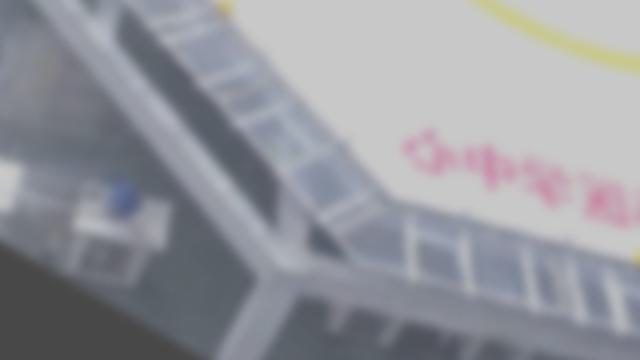Apron: (469, 1, 640, 82)
